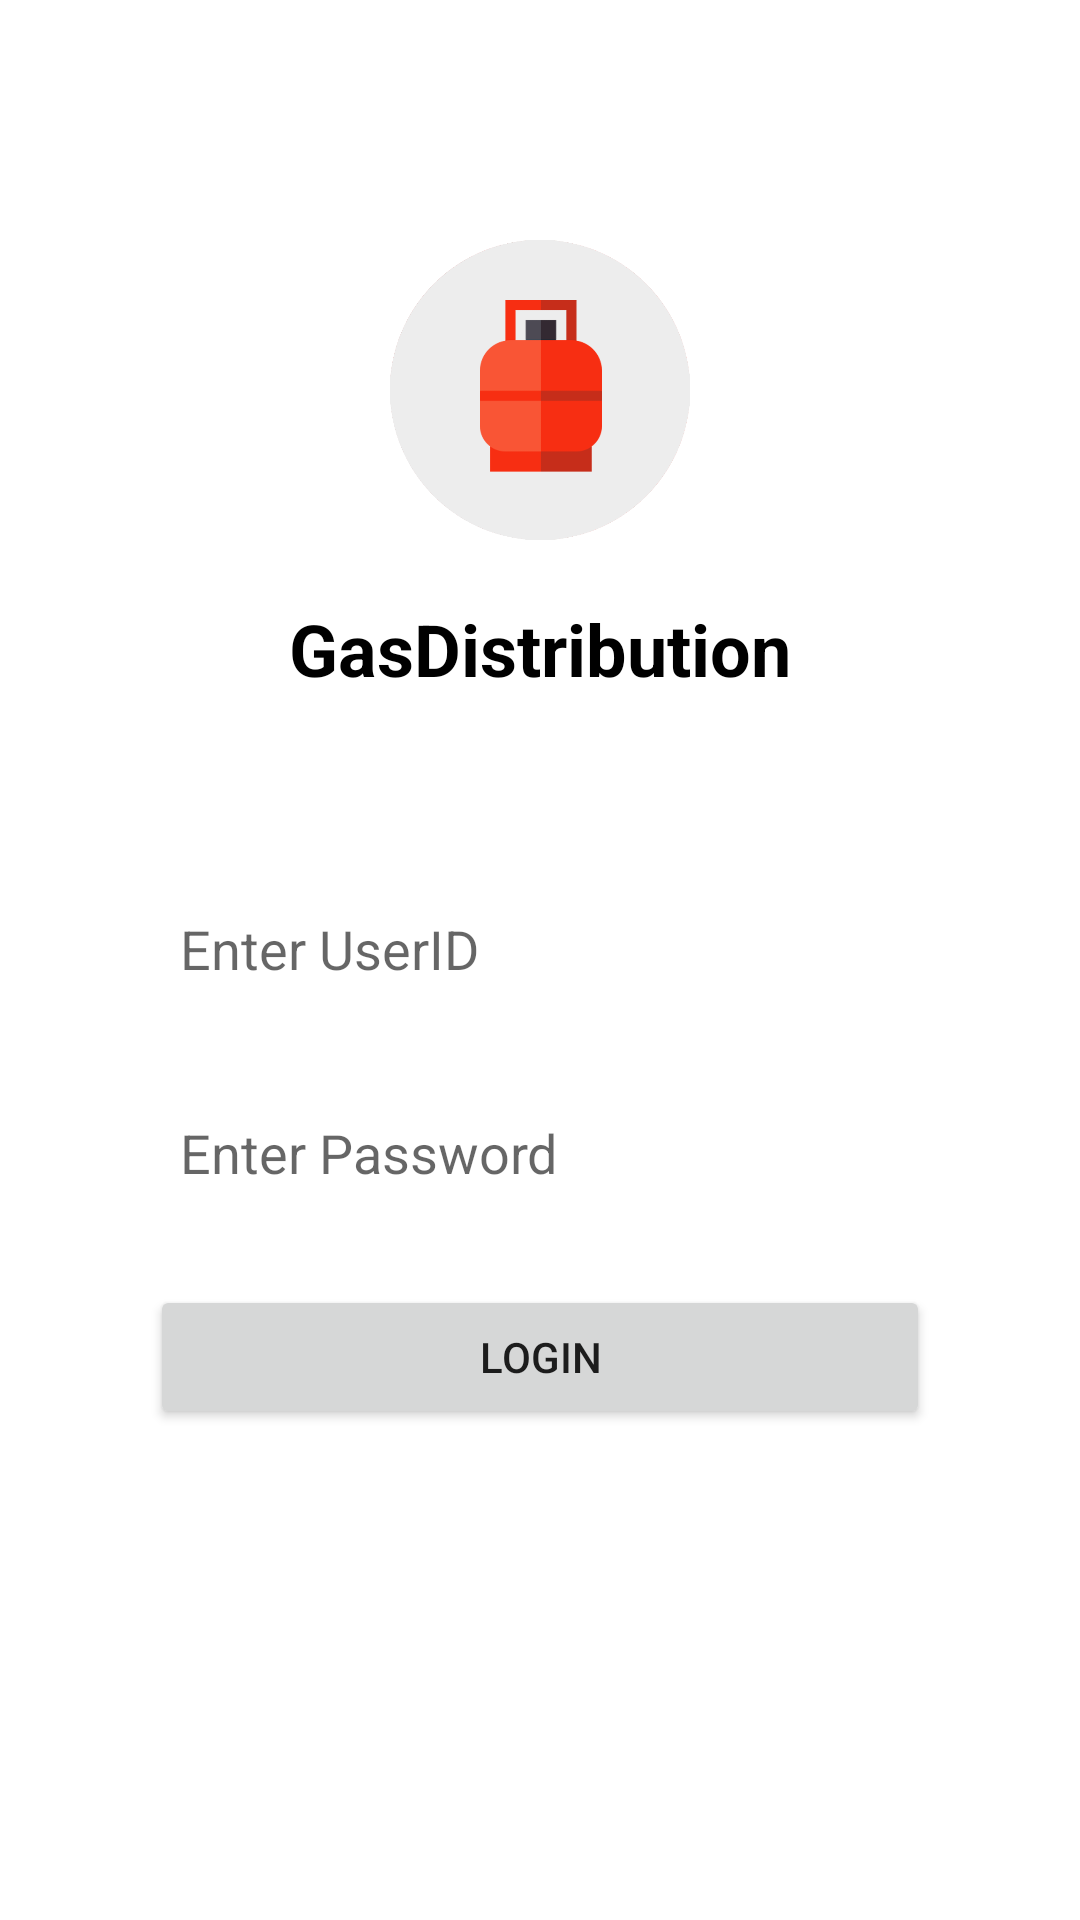

Icons on this 1080×1920 Android screen, each with its box as (x1, y1, x2, y2):
gasicon: (390, 240, 690, 540)
